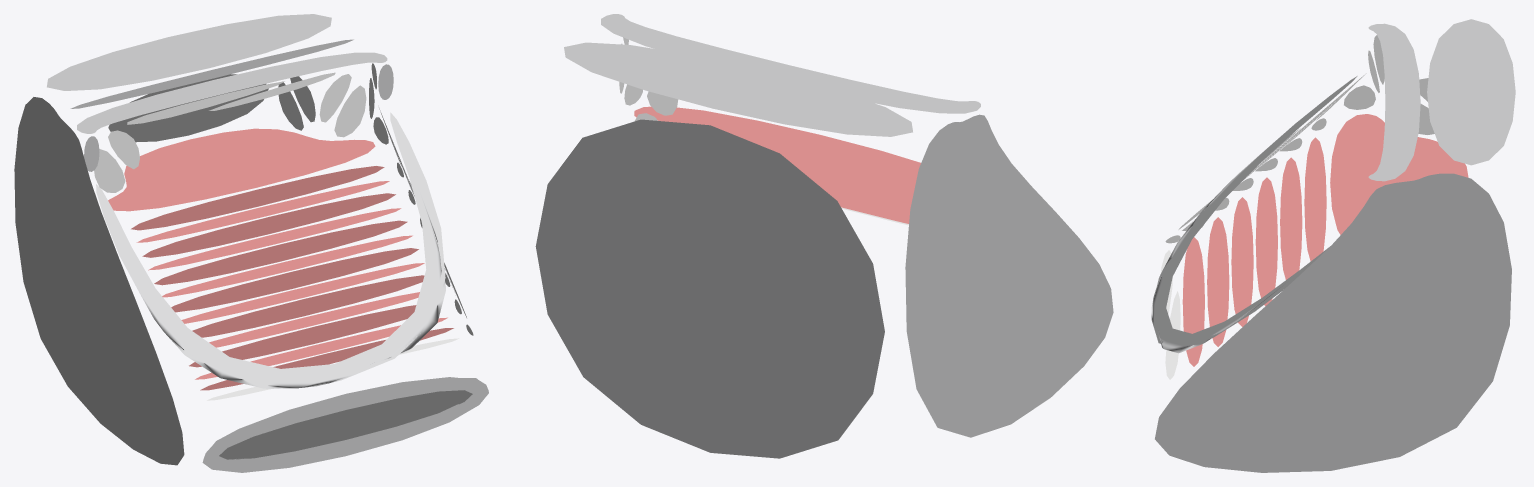
File: grandstand.glb
3 renders of one model, left to right at view 1: azimuth 30°, elevation 25°; view 2: azimuth 150°, elevation 25°; view 3: azimuth 270°, elevation 25°, orthographic. The views are drawn at different scales.
Visible parts, largest first — view 1: grandstand; view 2: grandstand; view 3: grandstand.
Part boxes in pixels (x1,y1,x2,y2): grandstand: [14, 14, 488, 472]; grandstand: [535, 14, 1113, 458]; grandstand: [1151, 19, 1515, 472].
Bounding box in the file's own units: 1 × 0.8963 × 1.
